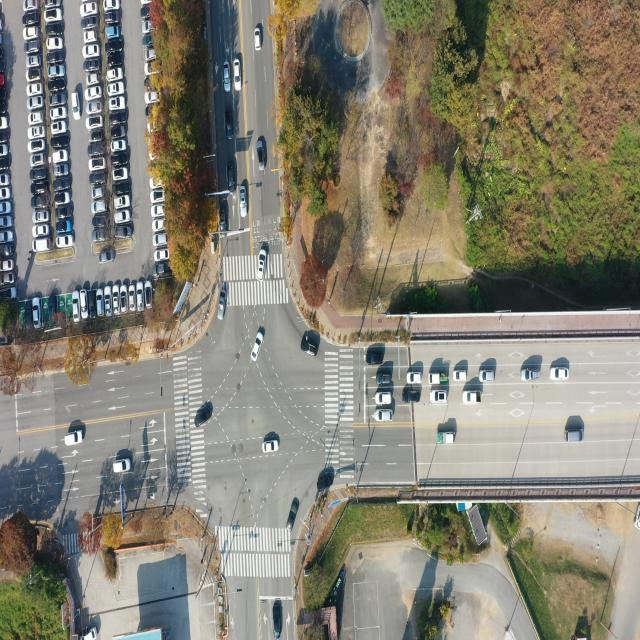car: (71, 93, 82, 120), (33, 239, 51, 253)
small_truck: (436, 430, 456, 445), (429, 371, 447, 386)
